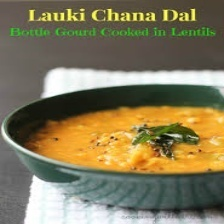dal: (22, 107, 224, 172)
